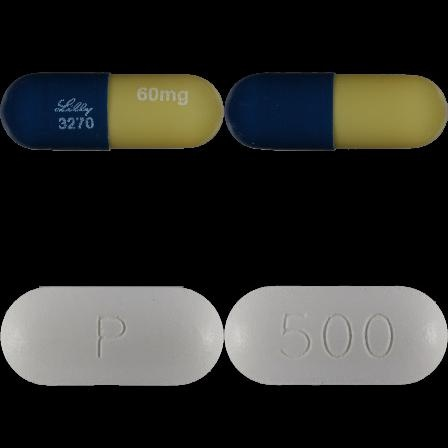35356-843: (0, 0, 224, 224)
